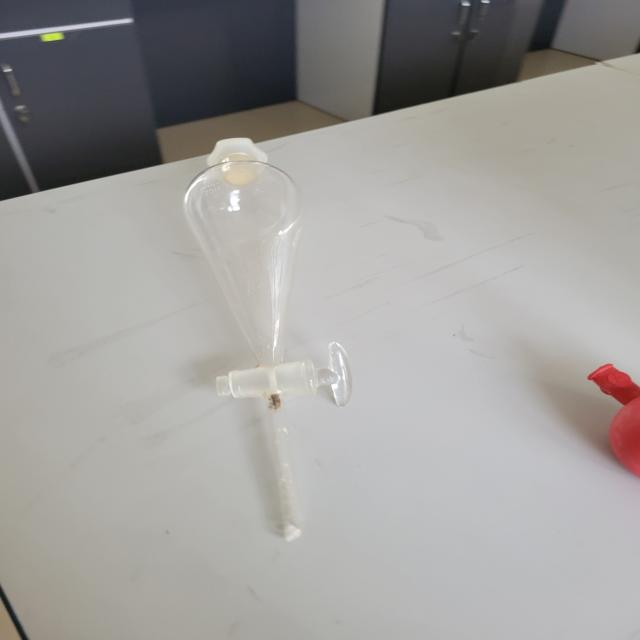Separating_Funnel: (174, 99, 418, 556)
